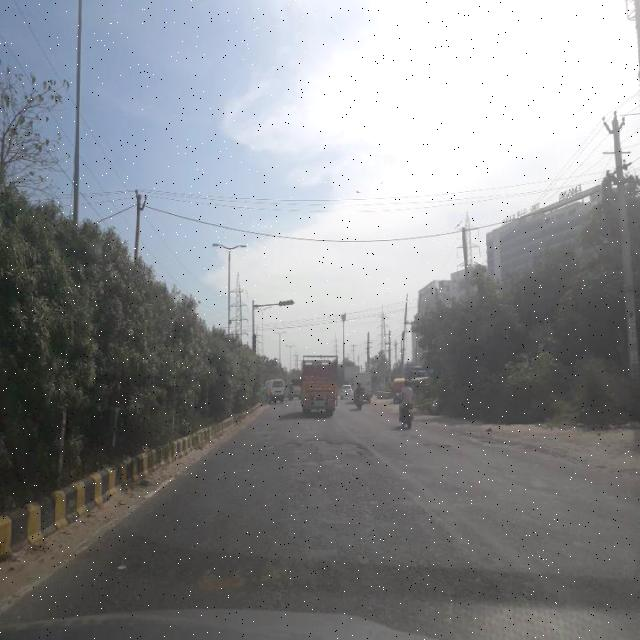D20: (105, 431, 517, 622)
D40: (265, 429, 377, 466)
